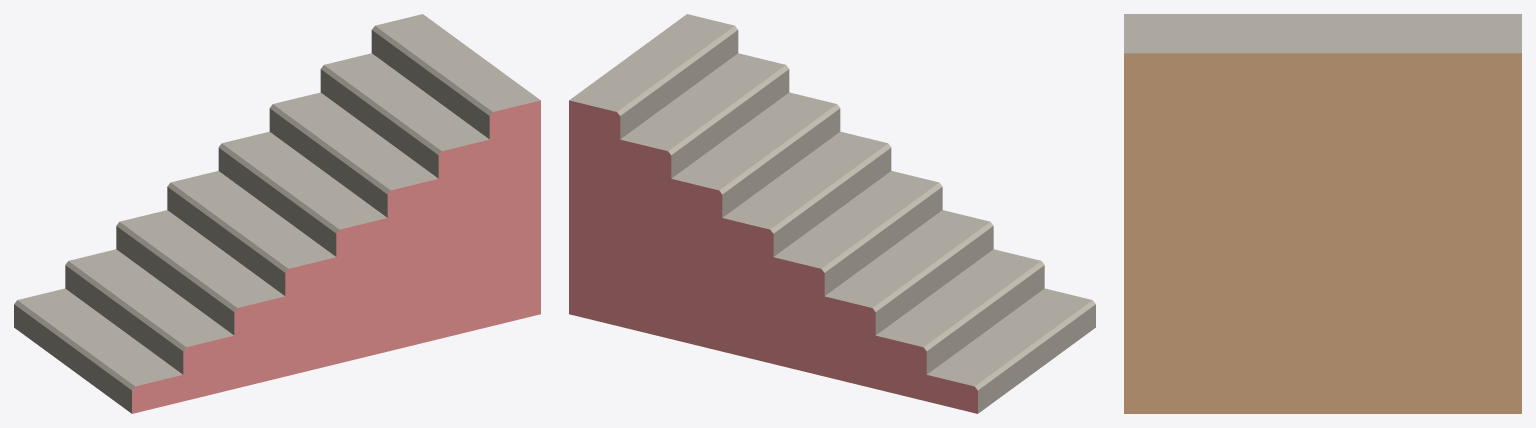
File: Tiered_Walkway_Steps_Straight_1x2.glb
3 views of the same model, side by side, from view 1: azimuth 30°, elevation 25°; view 2: azimuth 150°, elevation 25°; view 3: azimuth 270°, elevation 25° (orthographic). The views are drawn at different scales.
Visible parts, largest first — view 1: Tiered_Walkway_Steps_Straight_1x2; view 2: Tiered_Walkway_Steps_Straight_1x2; view 3: Tiered_Walkway_Steps_Straight_1x2.
Part boxes in pixels (left/top/right/bottom): Tiered_Walkway_Steps_Straight_1x2: left=14, top=14, right=540, bottom=413; Tiered_Walkway_Steps_Straight_1x2: left=569, top=14, right=1095, bottom=413; Tiered_Walkway_Steps_Straight_1x2: left=1124, top=14, right=1521, bottom=413.
Size of the model in its own units: 200 by 100 by 100.
